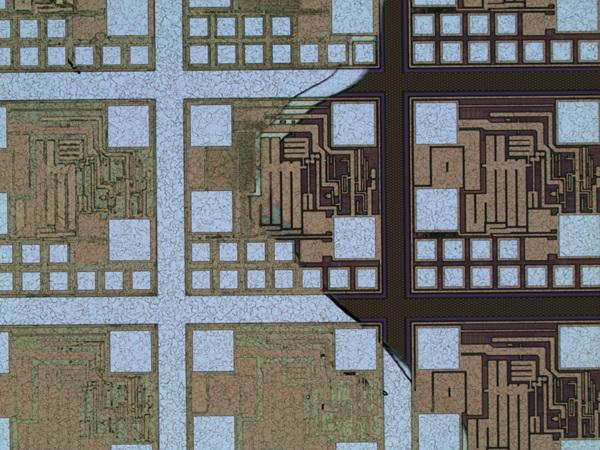COATING BAD: (1, 1, 476, 450)
